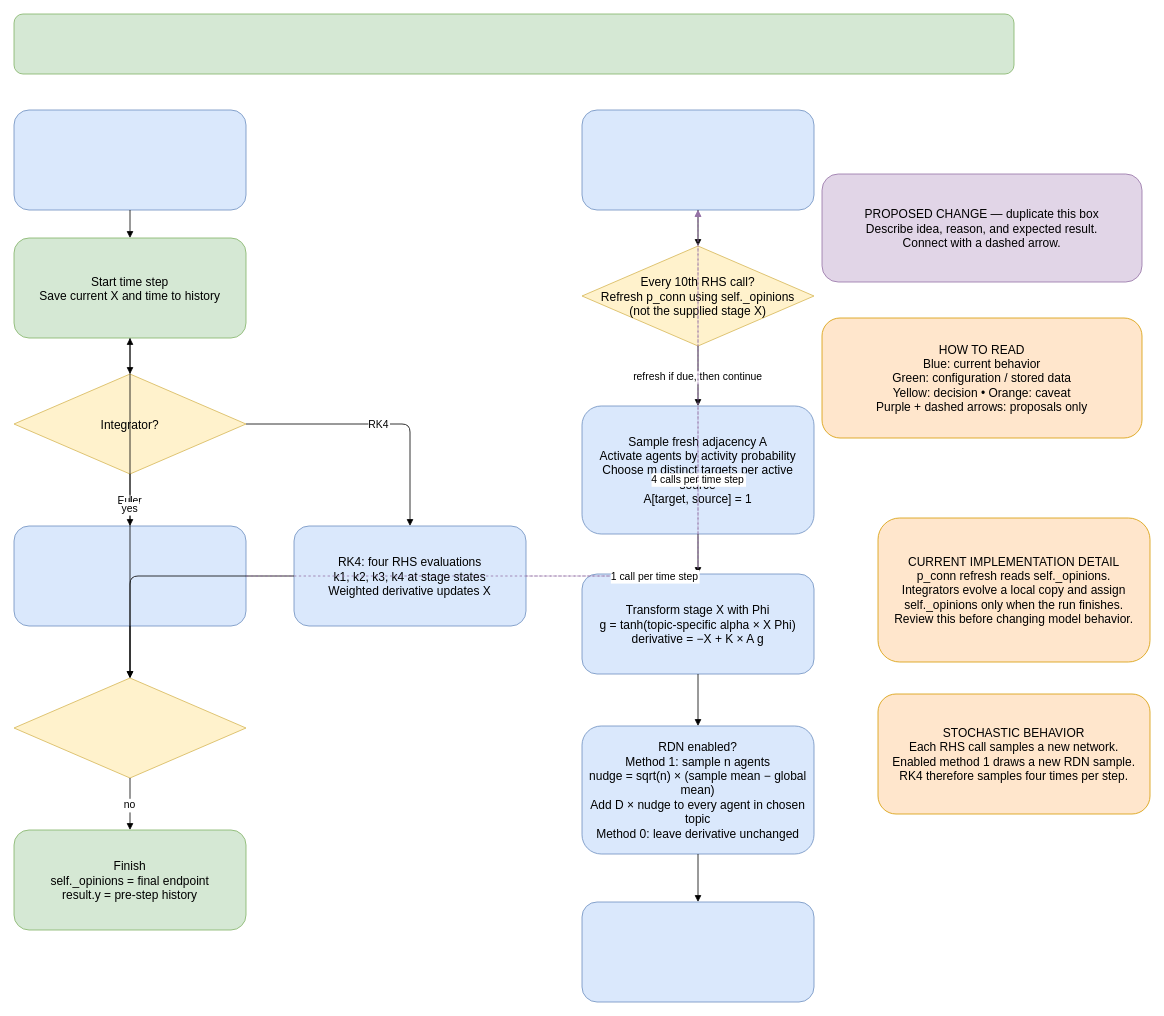
Some shapes in this 1164 by 1016 pixel diagram are drawn without their labels. The shapes that lost their labels are listed below. From the top down, each one's box as (x1, y1, x2, y2) in pixels, then its label:
(13, 13, 1014, 74): 03 / ONE SIMULATION STEP — X is an N × 2 matrix of agent opinions
(13, 109, 246, 210): Before run Initialize X, Phi, activities and p_conn
(581, 109, 814, 210): INSIDE EACH RHS / op_dynamics(t, stage X) Increment persistent RHS-call counter
(13, 525, 246, 626): Euler: one RHS evaluation X ← X + dt × derivative
(13, 677, 246, 778): More time steps?
(581, 901, 814, 1002): Return derivative to integrator
